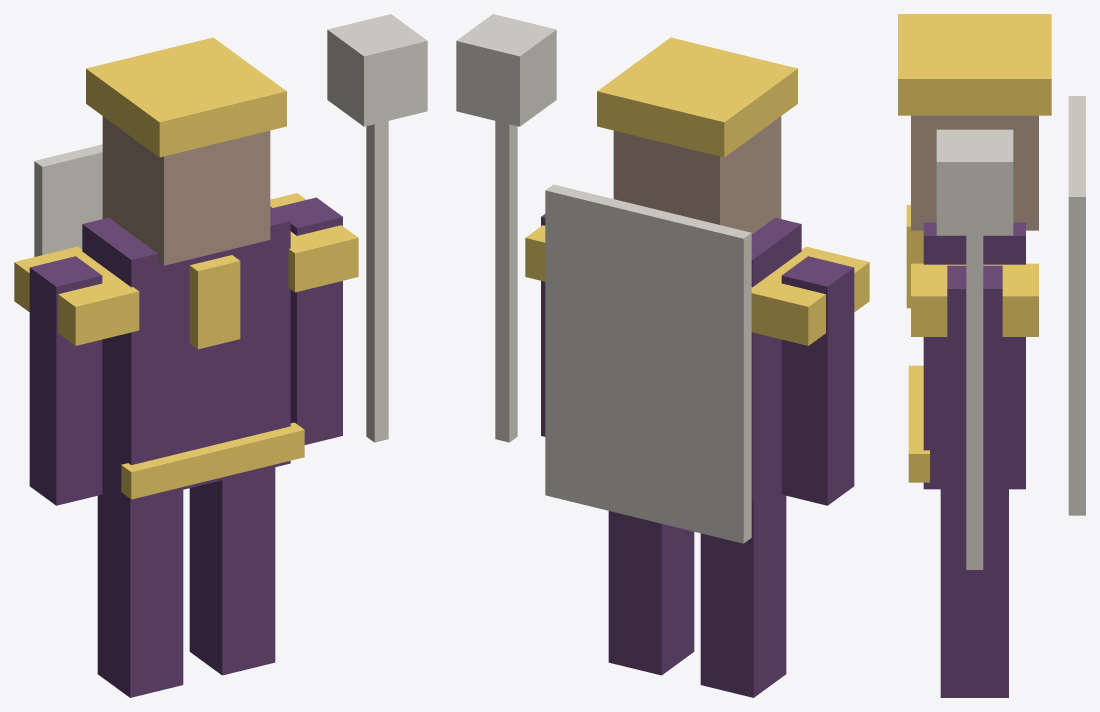
Rendered from 13_brant_holloway_responder_from_delivery.glb.
3 views of the same model, side by side, from view 1: azimuth 30°, elevation 25°; view 2: azimuth 150°, elevation 25°; view 3: azimuth 270°, elevation 25° (orthographic). The views are drawn at different scales.
Parts seen in each view (by area): view 1: Brant Holloway, Responder from Delivery; view 2: Brant Holloway, Responder from Delivery; view 3: Brant Holloway, Responder from Delivery.
Part boxes in pixels (x1,y1,x2,y2): Brant Holloway, Responder from Delivery: [14, 14, 427, 697]; Brant Holloway, Responder from Delivery: [456, 14, 869, 697]; Brant Holloway, Responder from Delivery: [898, 14, 1085, 697].
Bounding box in the file's own units: 1.06 × 1.62 × 0.4493.
